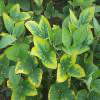Soyabean leaf: (31, 36, 50, 60), (40, 51, 59, 71), (67, 62, 87, 80), (79, 5, 96, 26), (27, 68, 43, 89), (38, 15, 51, 40), (8, 64, 21, 89), (61, 50, 77, 70), (73, 23, 88, 44), (2, 11, 15, 34), (56, 63, 70, 84), (24, 20, 40, 38), (4, 45, 20, 62), (15, 59, 31, 76), (0, 35, 18, 50), (52, 24, 63, 47), (12, 18, 25, 37), (61, 25, 72, 47), (17, 43, 30, 61), (69, 8, 80, 29), (9, 2, 21, 19), (16, 11, 32, 21), (61, 45, 76, 55)
